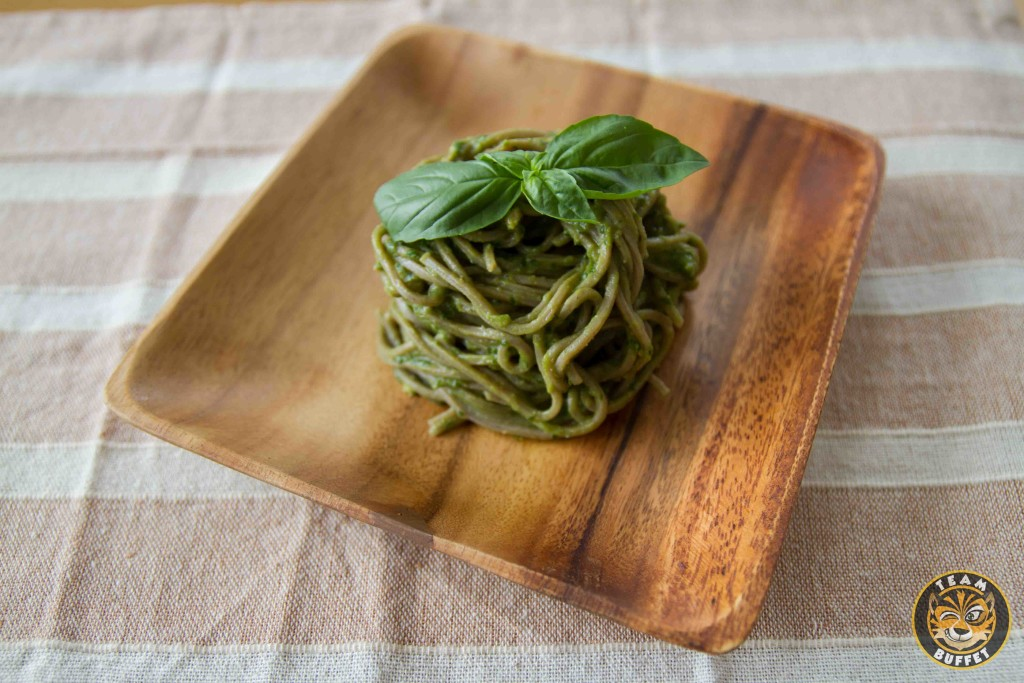Soba: (381, 129, 737, 481)
